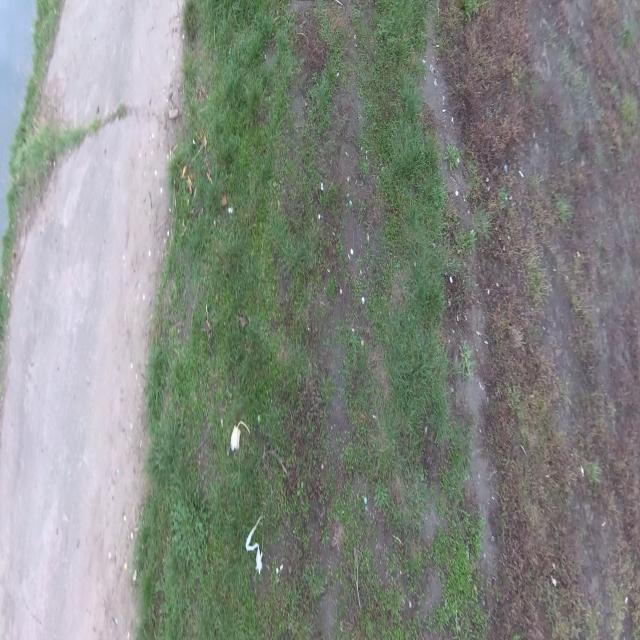rubbish: (244, 511, 265, 574), (229, 423, 242, 452)
